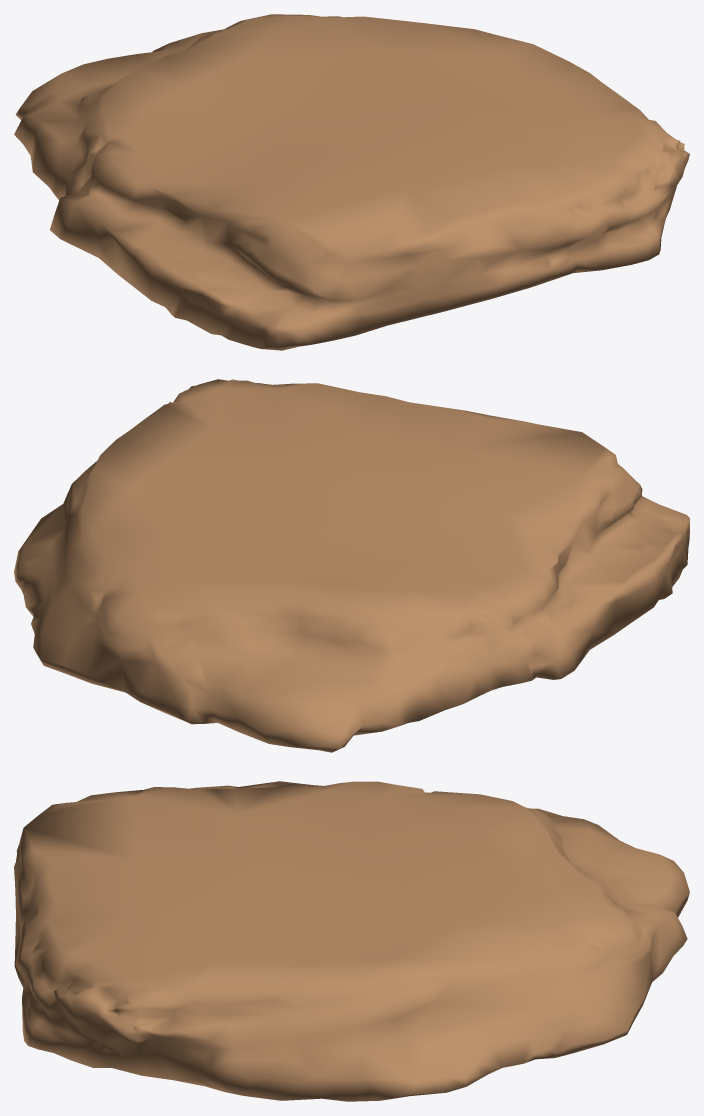
File: MSH_Rocks_Boulder_27.FBX
The picture shows the model from 3 angles, top to bottom: view 1: azimuth 30°, elevation 25°; view 2: azimuth 150°, elevation 25°; view 3: azimuth 270°, elevation 25°; orthographic projection. The views are drawn at different scales.
Parts seen in each view (by area): view 1: MESH_LOD0; view 2: MESH_LOD0; view 3: MESH_LOD0.
Boxes of the visible parts, x1,y1,x2,y2 form: MESH_LOD0: [14, 14, 689, 350]; MESH_LOD0: [14, 379, 689, 752]; MESH_LOD0: [14, 781, 689, 1101].
Size of what is drawn, in the model's own units: 173 by 30.18 by 180.
